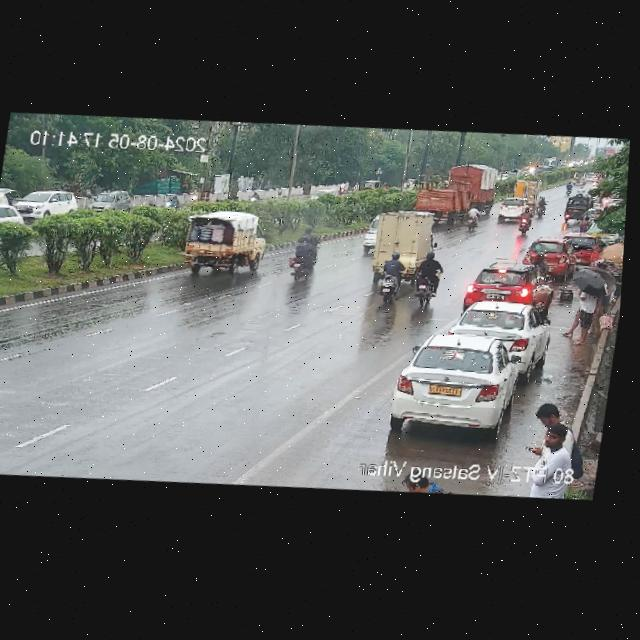car: (383, 325, 539, 441), (448, 296, 550, 365), (461, 260, 547, 311), (4, 184, 79, 222), (523, 237, 577, 274), (90, 187, 131, 221), (569, 231, 602, 269), (352, 211, 379, 256), (0, 195, 29, 234), (561, 191, 595, 221), (495, 195, 523, 224), (578, 205, 602, 233)
motorcycle: (369, 251, 410, 310), (408, 247, 444, 307), (281, 234, 321, 281), (513, 208, 539, 234), (460, 204, 480, 229), (531, 249, 548, 267), (536, 197, 547, 218)
person: (561, 271, 612, 344), (522, 428, 573, 484), (521, 401, 571, 458), (398, 476, 431, 493), (588, 243, 605, 263)
truck: (173, 210, 266, 278), (360, 208, 437, 263), (409, 178, 493, 221), (449, 161, 500, 208), (509, 176, 541, 199), (540, 155, 560, 174)
